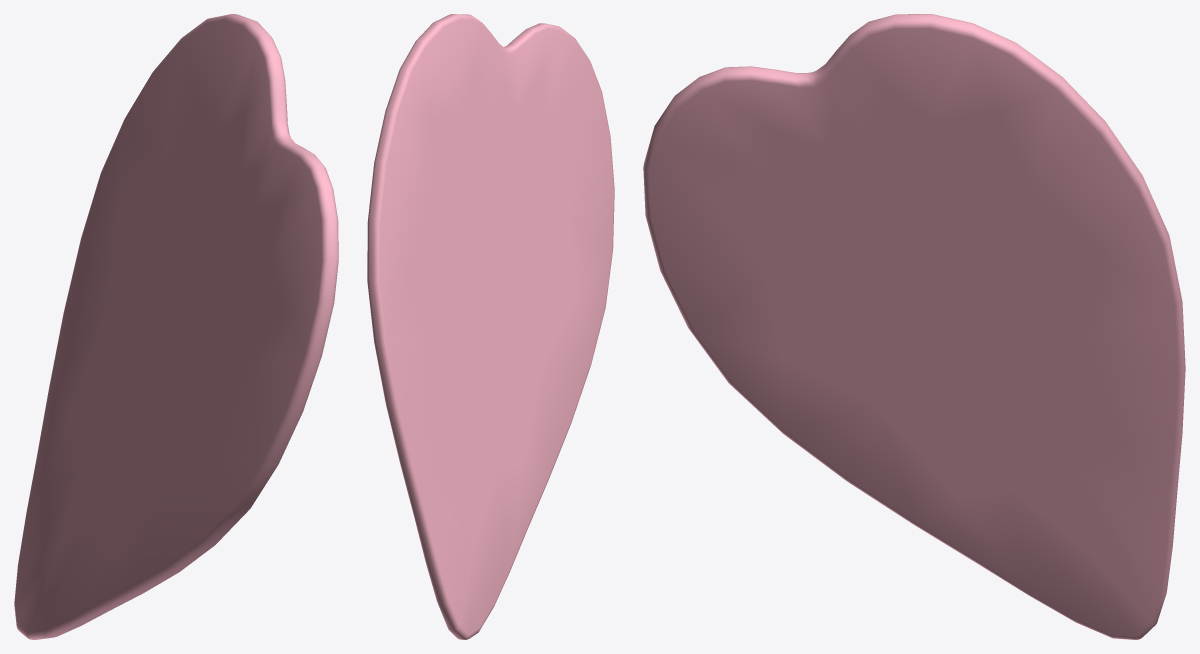
The model's file is pinkFlower_7.glb.
The picture shows the model from 3 angles, left to right: view 1: azimuth 30°, elevation 25°; view 2: azimuth 150°, elevation 25°; view 3: azimuth 270°, elevation 25°; orthographic projection. The views are drawn at different scales.
Visible parts, largest first — view 1: Petal_01_Sakura_Cleft.104; view 2: Petal_01_Sakura_Cleft.104; view 3: Petal_01_Sakura_Cleft.104.
Boxes of the visible parts, x1=… form: Petal_01_Sakura_Cleft.104: x1=14, y1=14, x2=338, y2=639; Petal_01_Sakura_Cleft.104: x1=367, y1=14, x2=614, y2=639; Petal_01_Sakura_Cleft.104: x1=643, y1=14, x2=1185, y2=639.
Bounding box in the file's own units: 0.5904 × 2.51 × 1.79.
